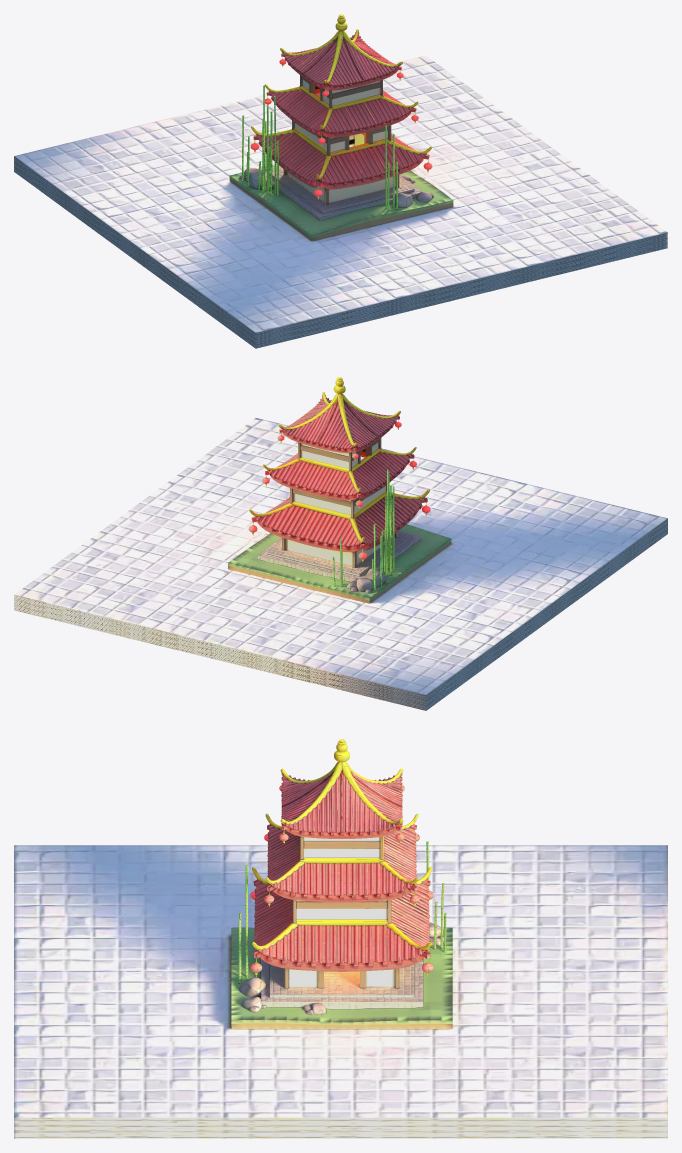
Rendered from temple_test_Draco_v01.glb.
3 renders of one model, top to bottom at view 1: azimuth 30°, elevation 25°; view 2: azimuth 150°, elevation 25°; view 3: azimuth 270°, elevation 25°, orthographic. The views are drawn at different scales.
Visible parts, largest first — view 1: Cube.004, poutre_5_bois_0.001; view 2: Cube.004, poutre_5_bois_0.001; view 3: Cube.004, poutre_5_bois_0.001.
Boxes of the visible parts, box(x1,y1,x2,y2) form: Cube.004: box(14, 55, 667, 348); poutre_5_bois_0.001: box(229, 14, 453, 240); Cube.004: box(14, 418, 667, 710); poutre_5_bois_0.001: box(228, 377, 451, 603); Cube.004: box(14, 845, 667, 1138); poutre_5_bois_0.001: box(231, 739, 452, 1028).
Size of the model in its own units: 7.84 by 3.54 by 7.97.
Materials: 2 (2 with a texture image).
